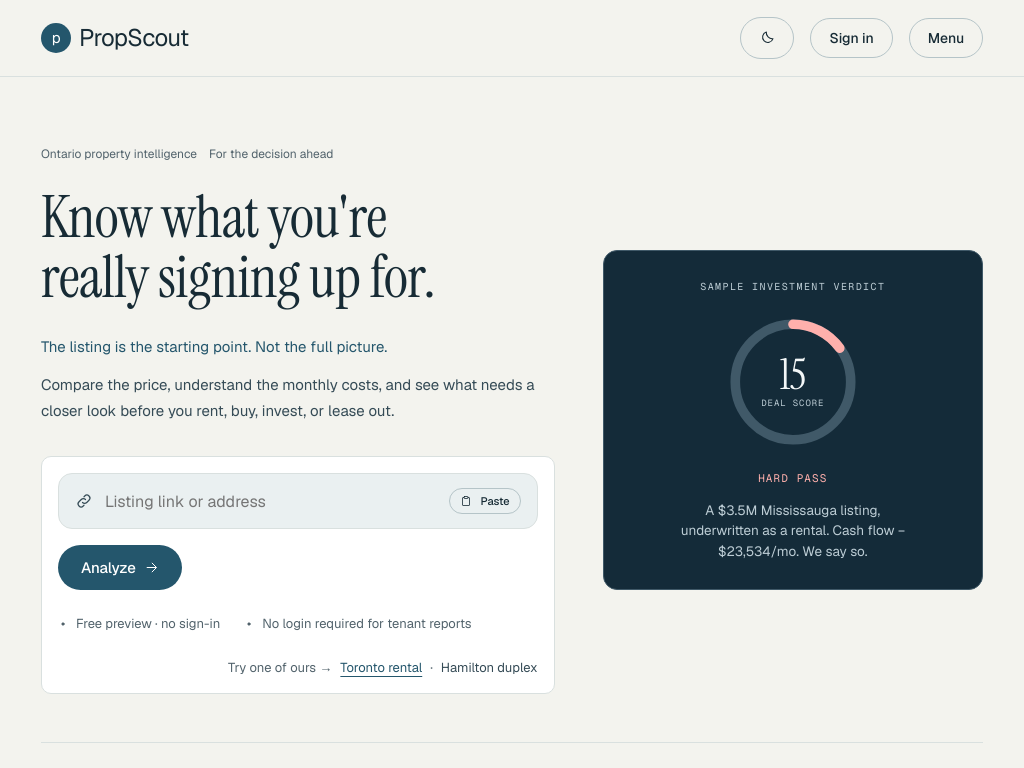
hybrid application presentation › uses real detection for for-sale and preserves the listing in the confirmation
In the field named "Listing link or property address": (271, 501) [105,491,438,512], type "https://www.realtor.ca/real-estate/12345678/123-test-street-toronto"
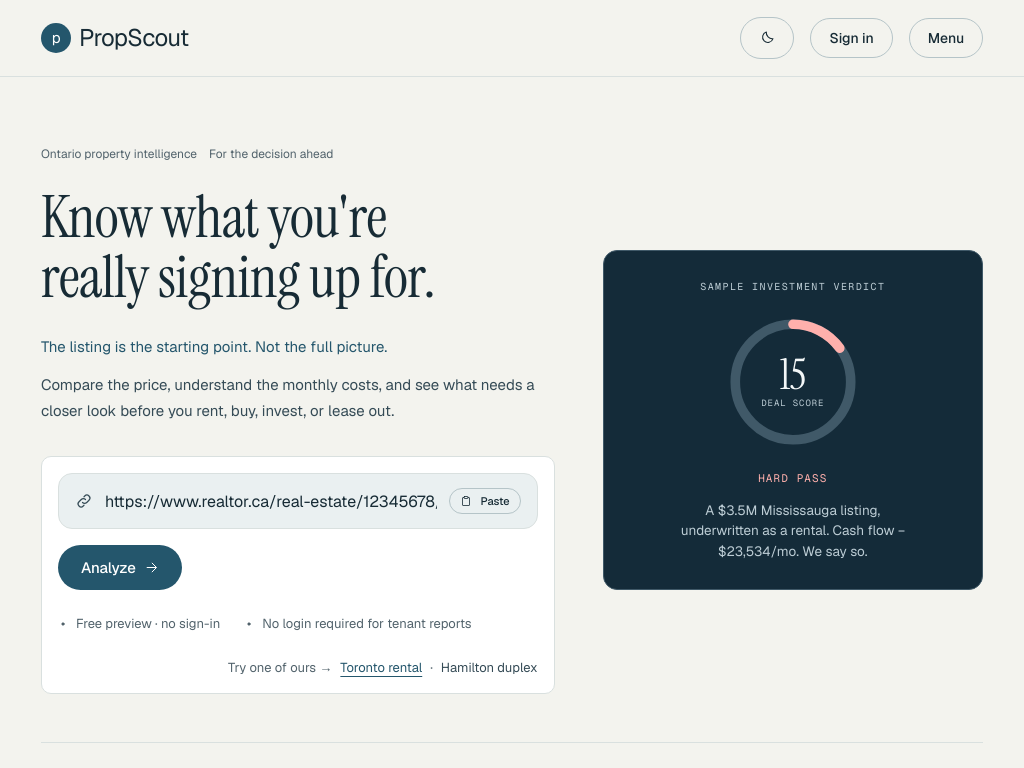
Click the button "Analyze": (120, 568) [58,545,182,590]
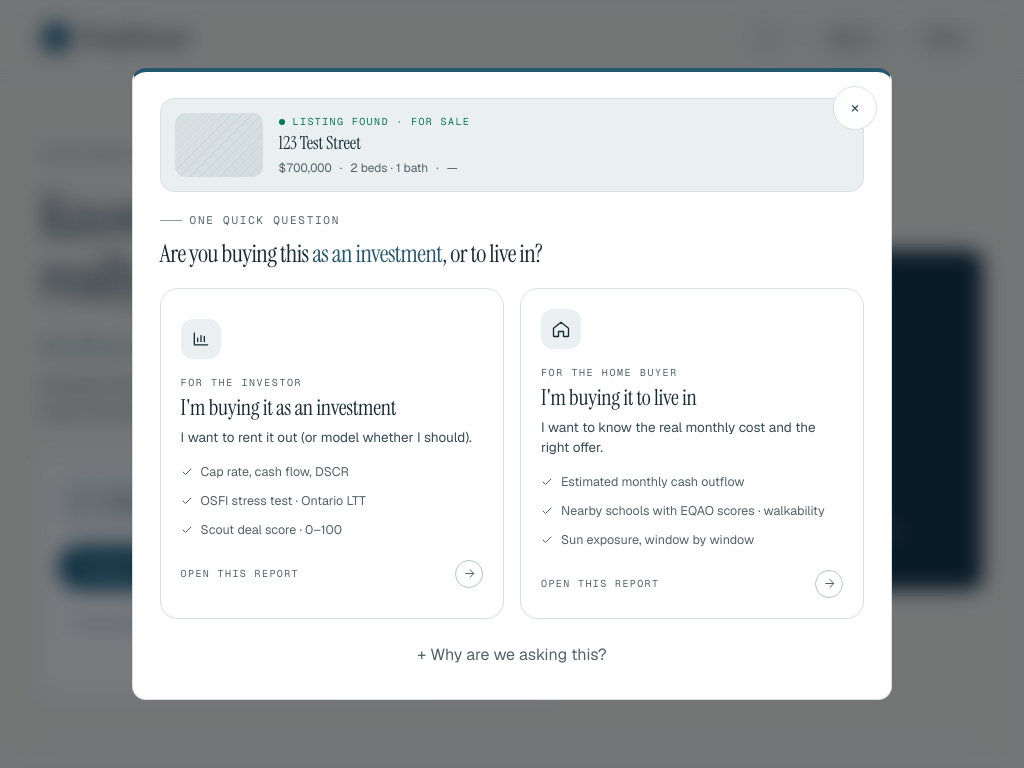
Now the text "123 Test Street" is shown, box [279,131,361,155]
Now the text "I'm buying it as an investment" is shown, box [181,393,396,422]
Now the text "I'm buying it to live in" is shown, box [541,383,696,412]
